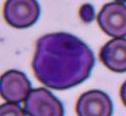M: (32, 32, 94, 90)
